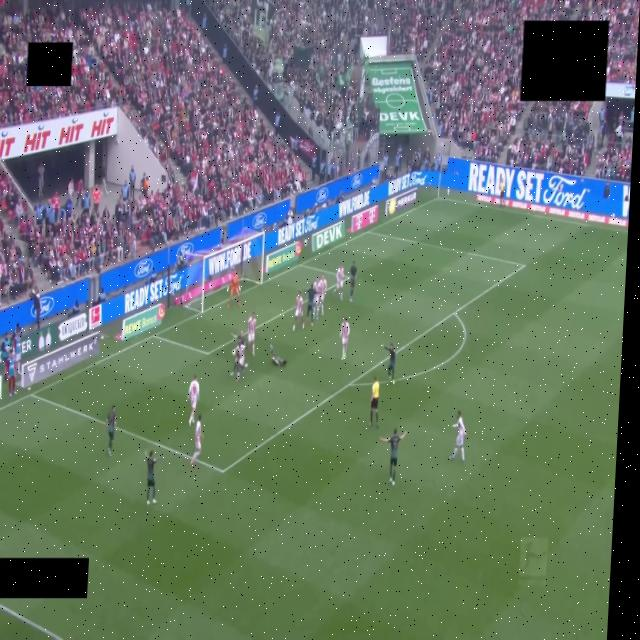ball: (232, 349, 236, 357)
player: (380, 429, 406, 486), (450, 411, 466, 462), (145, 450, 157, 505), (191, 415, 202, 465), (231, 342, 245, 381), (188, 376, 199, 425), (383, 343, 396, 383), (106, 405, 116, 456), (227, 272, 240, 309), (305, 283, 315, 327), (293, 291, 304, 331), (247, 312, 256, 356), (340, 317, 349, 360), (270, 345, 286, 367), (313, 279, 320, 321), (349, 261, 356, 302), (319, 274, 326, 315), (336, 265, 344, 300)
referee: (370, 376, 379, 429)
